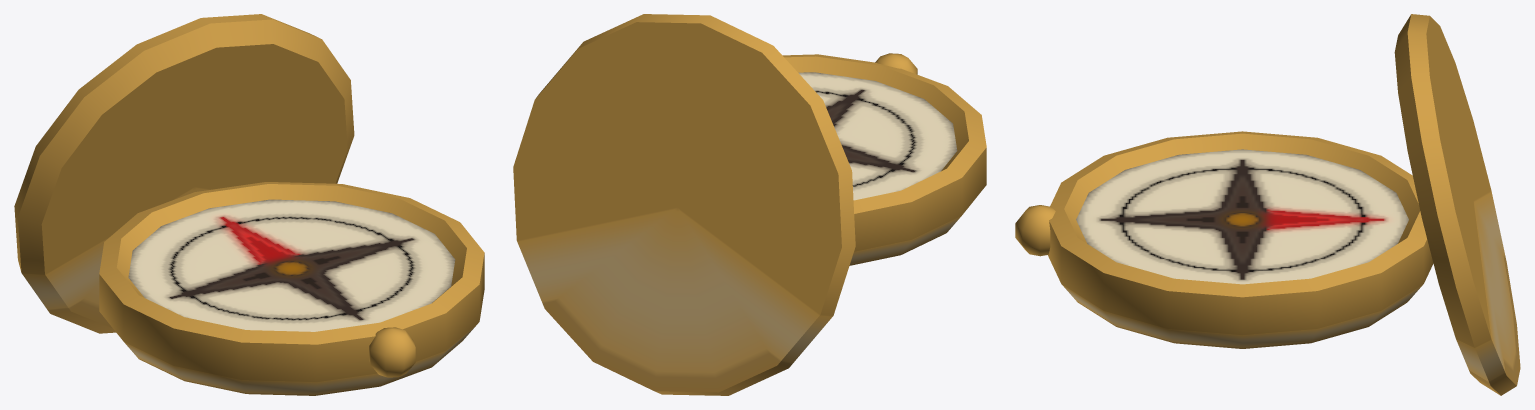
File: Decor_Compass.fbx
The picture shows the model from 3 angles, left to right: view 1: azimuth 30°, elevation 25°; view 2: azimuth 150°, elevation 25°; view 3: azimuth 270°, elevation 25°; orthographic projection.
Visible parts, largest first — view 1: Decor_Compass; view 2: Decor_Compass; view 3: Decor_Compass.
Boxes of the visible parts, left/top/right/bottom form: Decor_Compass: left=14, top=14, right=484, bottom=395; Decor_Compass: left=513, top=14, right=986, bottom=395; Decor_Compass: left=1015, top=14, right=1520, bottom=395.
Bounding box in the file's own units: 0.33 × 0.3197 × 0.4246.
1 material, 1 textured.
